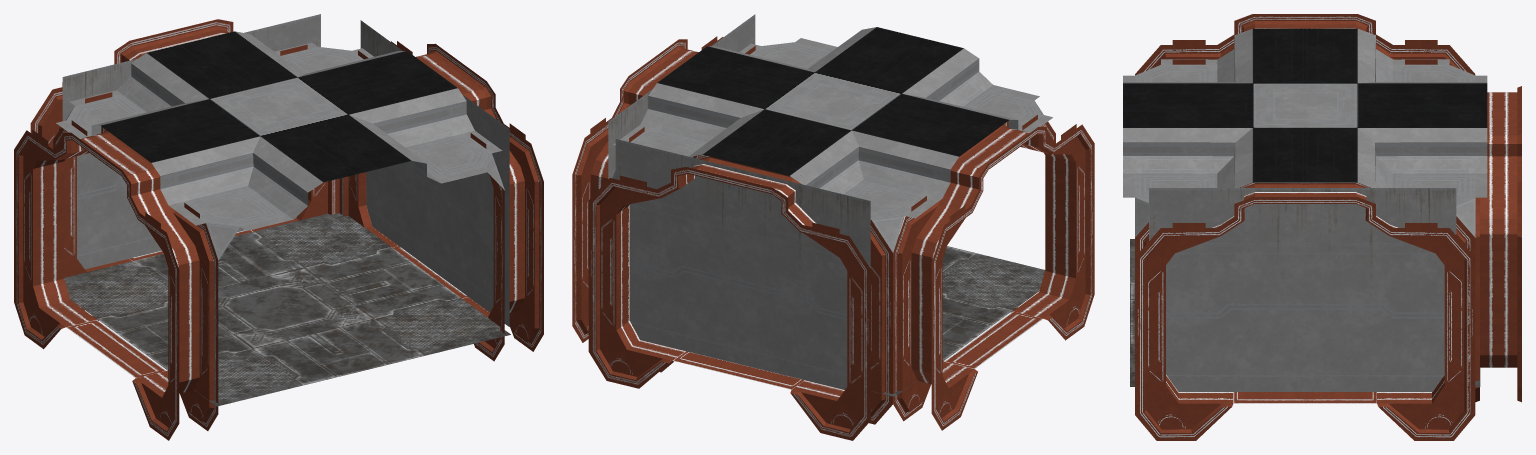
File: Junction(L)_section.FBX
3 views of the same model, side by side, from view 1: azimuth 30°, elevation 25°; view 2: azimuth 150°, elevation 25°; view 3: azimuth 270°, elevation 25° (orthographic). The views are drawn at different scales.
Parts seen in each view (by area): view 1: Group004, Plane002, Group005, Plane003, Plane004; view 2: Group004, Group005, Plane002, Plane004, Plane003; view 3: Group005, Group004, Plane003, Plane004, Plane002.
Boxes of the visible parts, x1,y1,x2,y2 form: Group004: [56, 31, 510, 406]; Plane002: [14, 120, 218, 440]; Group005: [62, 14, 509, 326]; Plane003: [339, 41, 543, 361]; Plane004: [30, 19, 339, 310]; Group004: [612, 27, 1052, 396]; Group005: [608, 14, 870, 389]; Plane002: [893, 115, 1094, 430]; Plane004: [588, 154, 892, 440]; Plane003: [572, 36, 755, 342]; Group005: [1149, 188, 1456, 391]; Group004: [1123, 28, 1487, 386]; Plane003: [1135, 182, 1475, 440]; Plane004: [1475, 86, 1521, 402]; Plane002: [1135, 14, 1475, 75].
Bounding box in the file's own units: 623 × 387 × 573.
